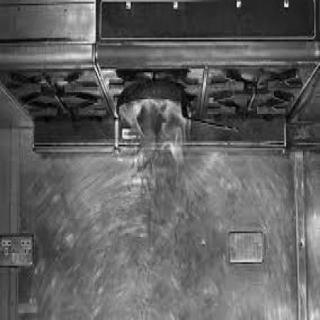Fire: (112, 90, 194, 232)
